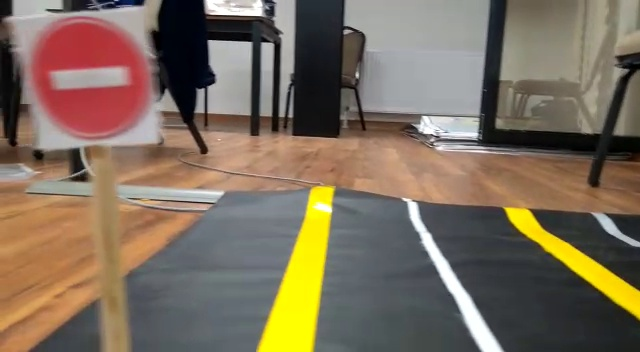girisi_olmayan_yol: (18, 9, 160, 144)
